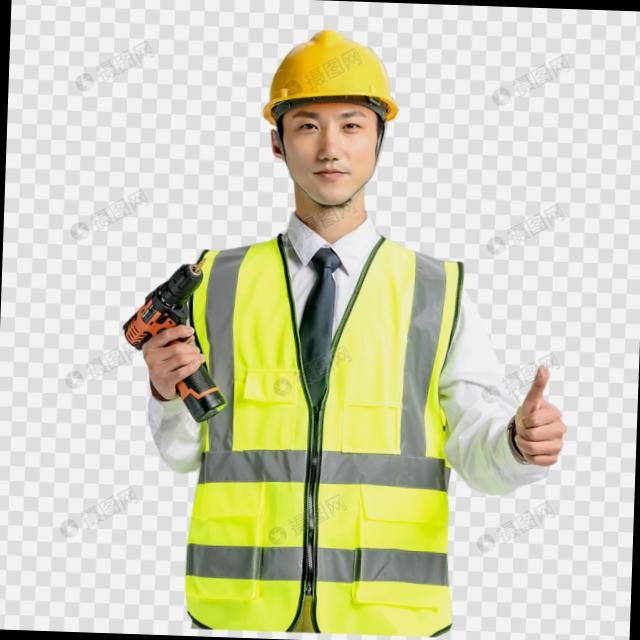helmet: (256, 23, 403, 122)
no-goggles: (276, 108, 379, 144)
person: (113, 4, 586, 640)
vest: (175, 223, 473, 640)
